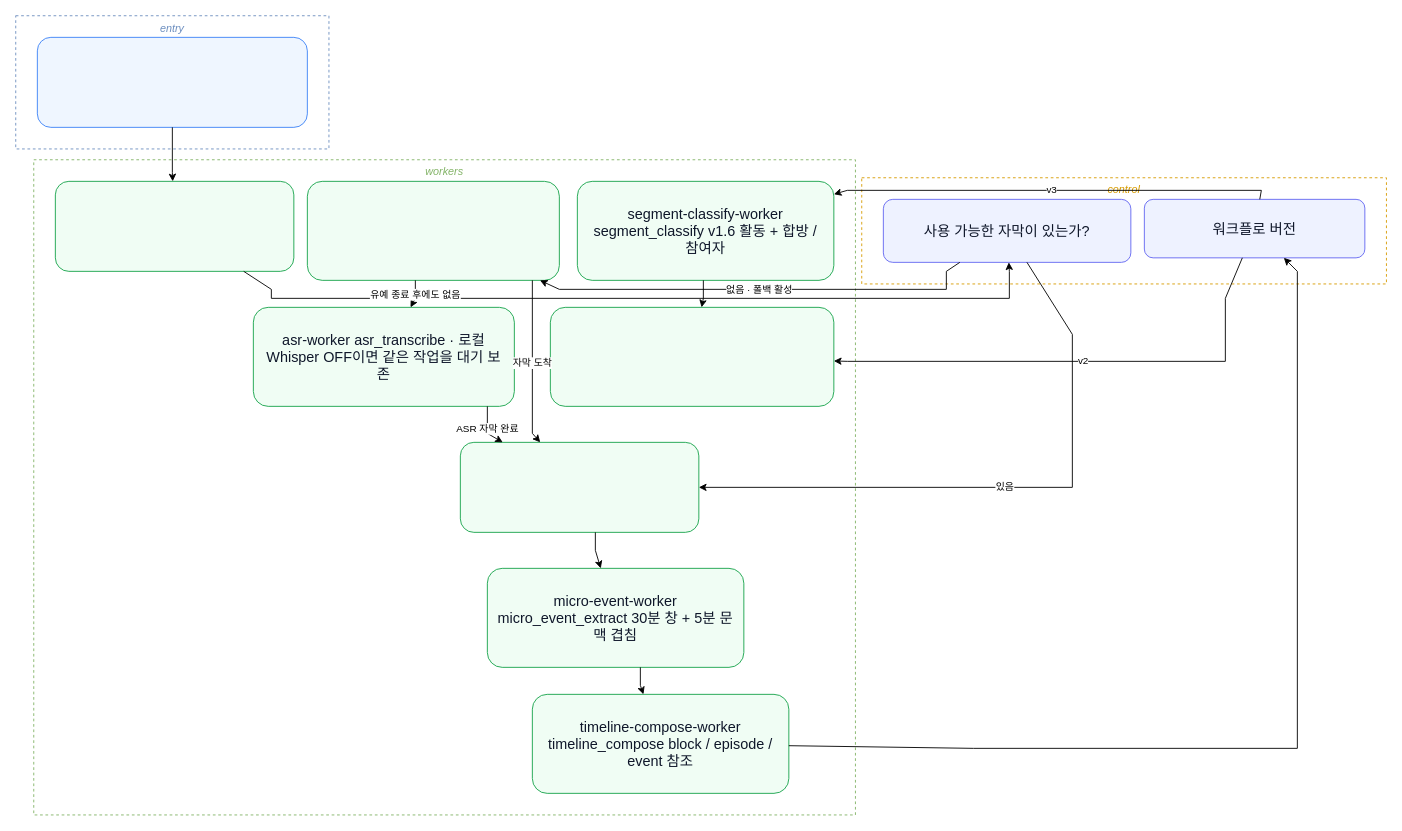
The diagram is 1402 pixels wide and 831 high, and some of its shapes have lost their labels. Here are the shapes that lost their labels. From the top down, the box of each, then its label:
(36, 36, 307, 127): process_to_publish 스케줄러 승인 또는 수동 API
(54, 180, 294, 271): transcript-worker transcript_collect
(306, 180, 559, 280): 같은 transcript-worker transcript_recheck 기본 30분 간격 / 최대 6시간
(549, 306, 834, 406): archive-publish-worker OFF: 같은 게시 work 대기 보존 timeline (+ v3 분류) 고정해 게시
(459, 441, 699, 532): transcript-cue-worker transcript_cue_generate
